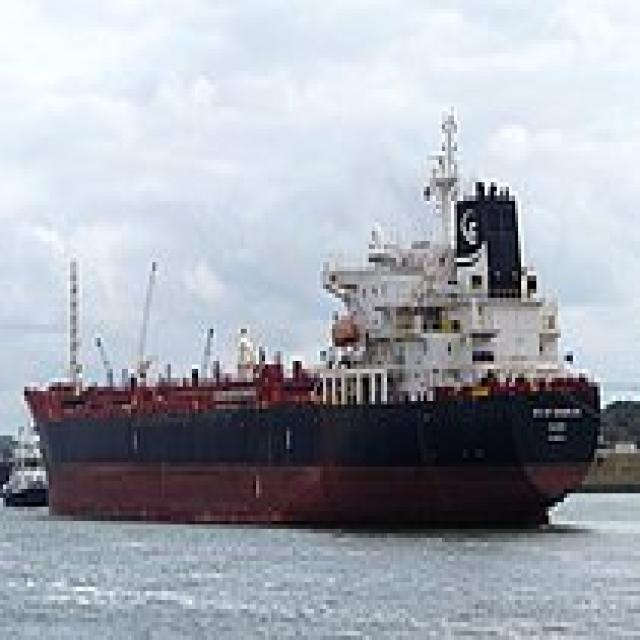Tanker: (18, 98, 600, 529)
